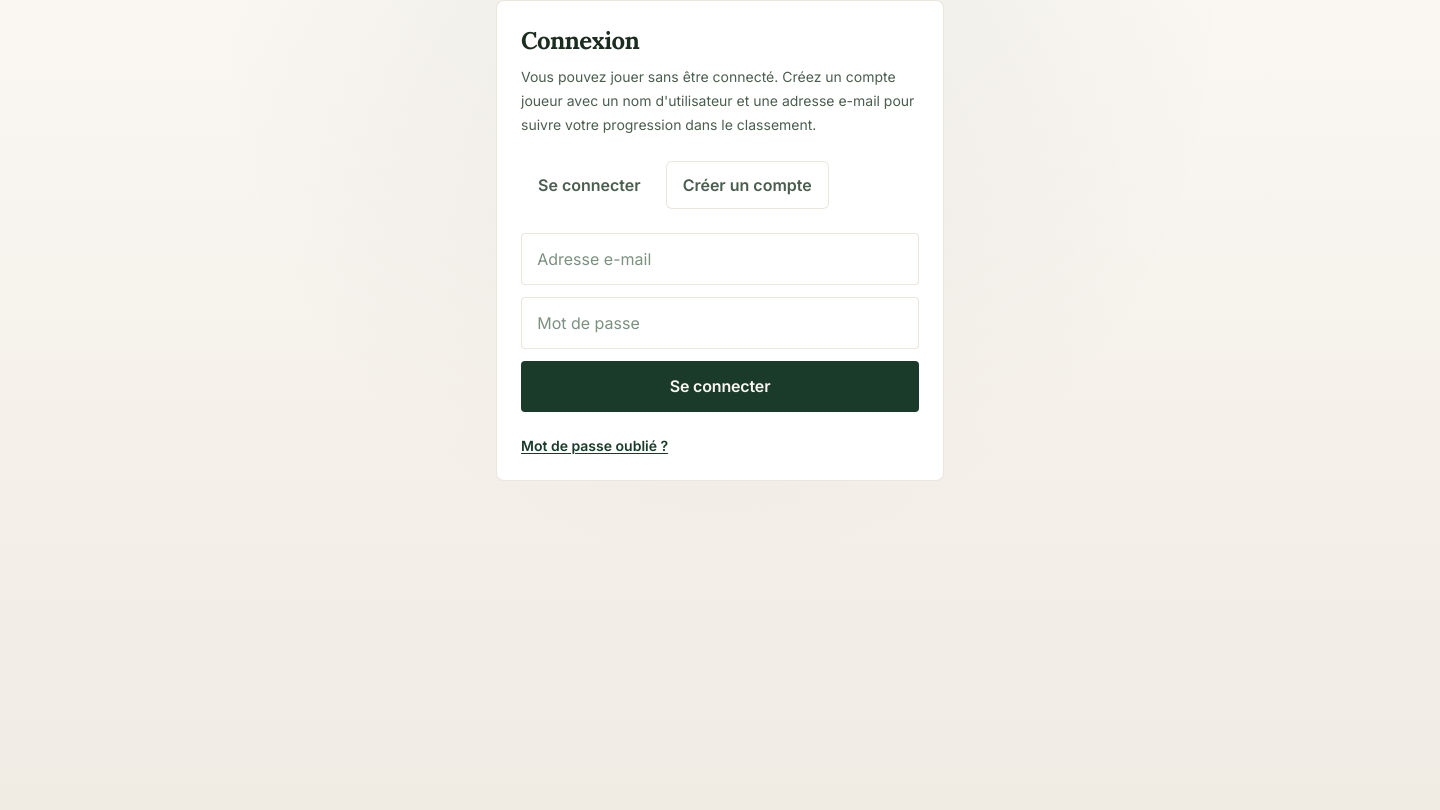
Scenario: AuthPage › submits register form and shows activation link message
Step 1. Click the button "Créer un compte" → (747, 185), box [666,161,829,209]
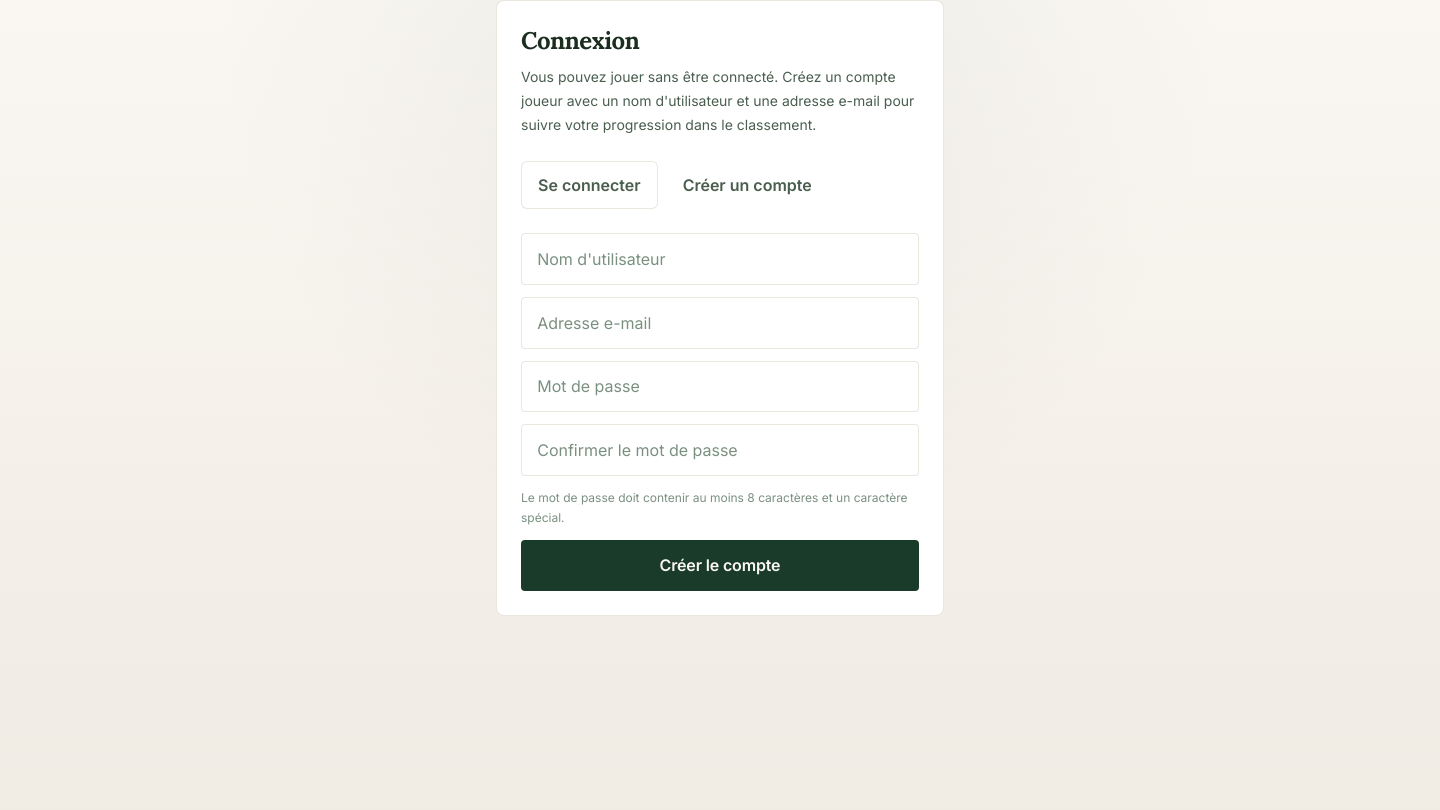
Step 2. Type "newuser" into the field with placeholder "Nom d'utilisateur" → (720, 259), box [521,233,919,285]
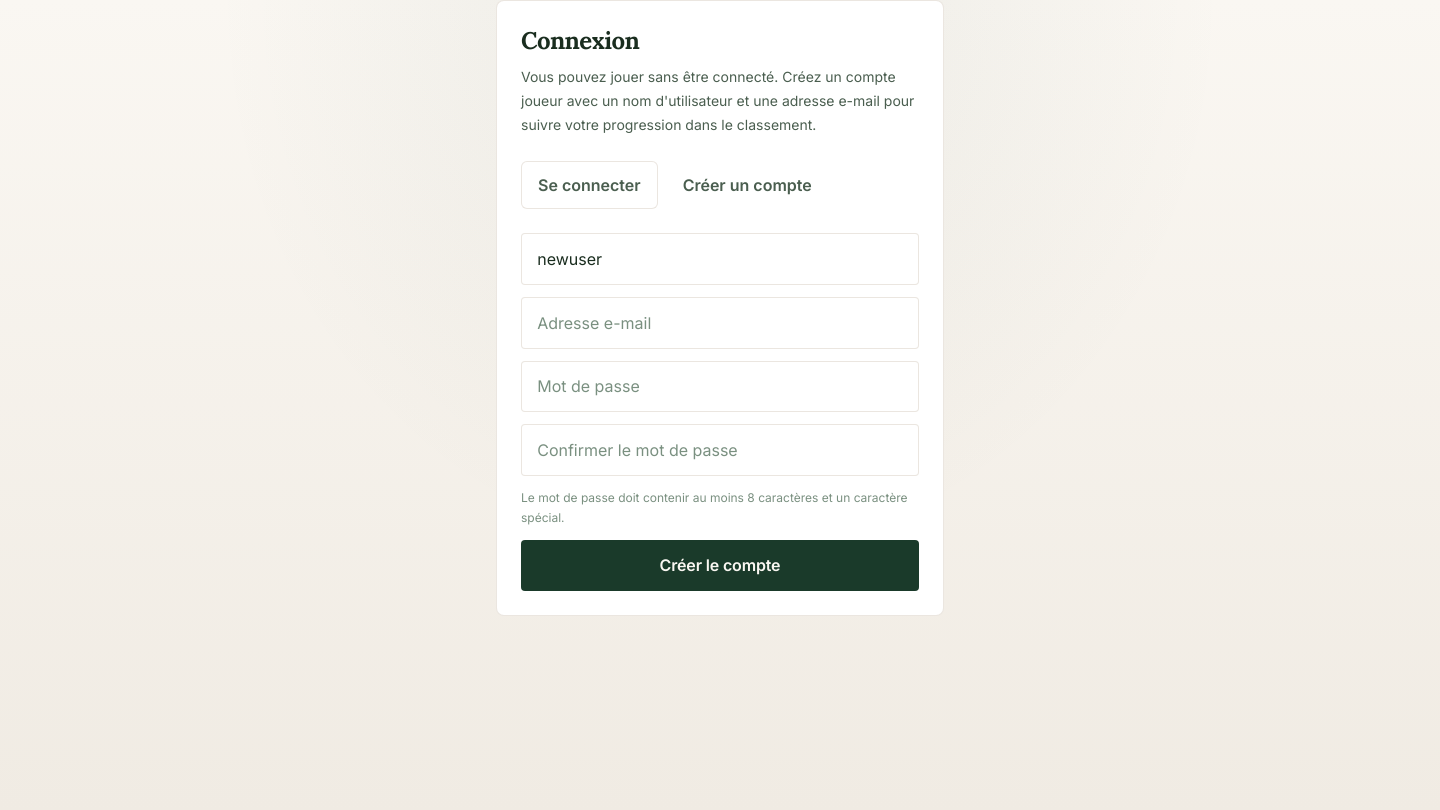
Step 3. Type "newuser@example.com" into the field with placeholder "Adresse e-mail" → (720, 323), box [521,297,919,349]
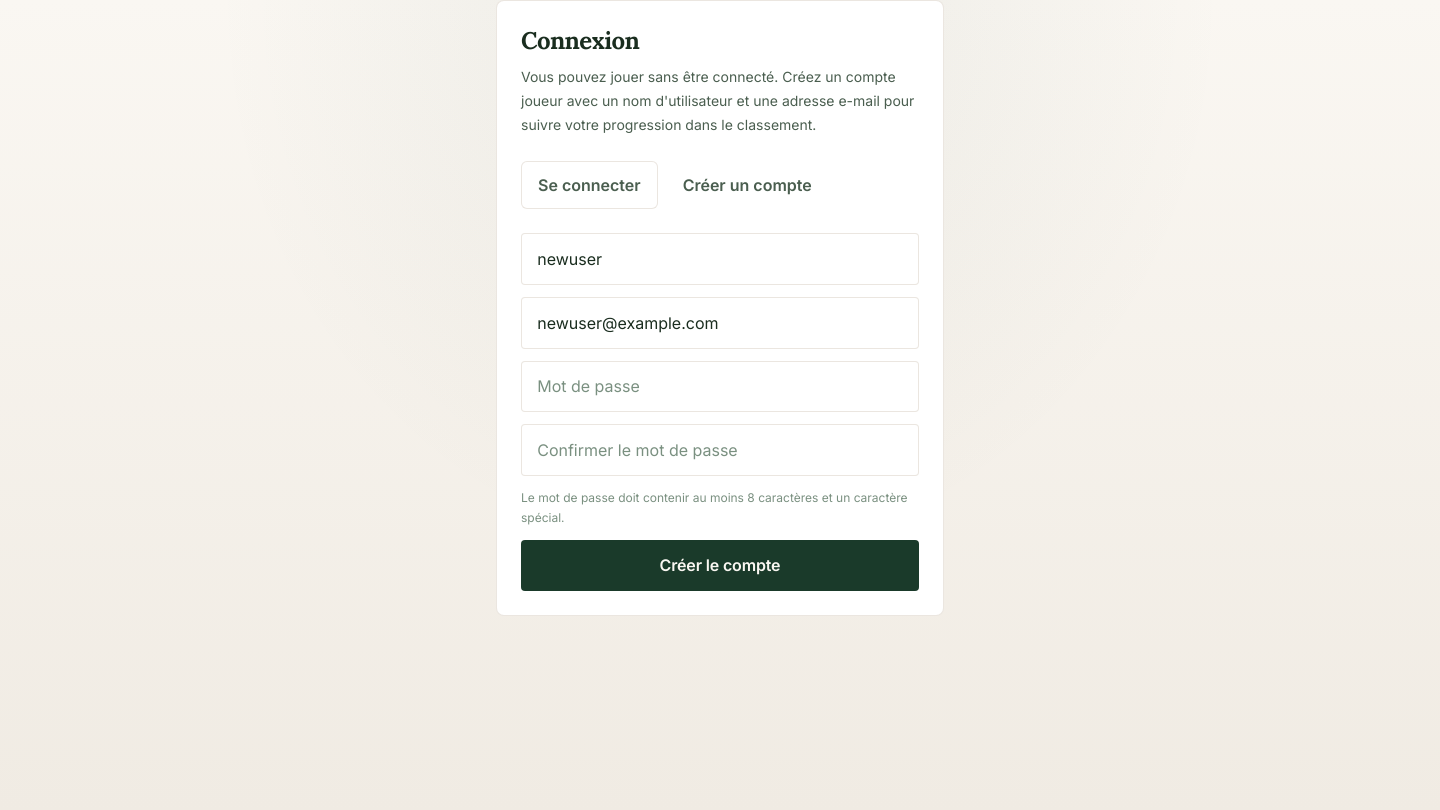
Step 4. Type "newpass123!" into the password field with placeholder "Mot de passe" → (720, 386), box [521,361,919,412]
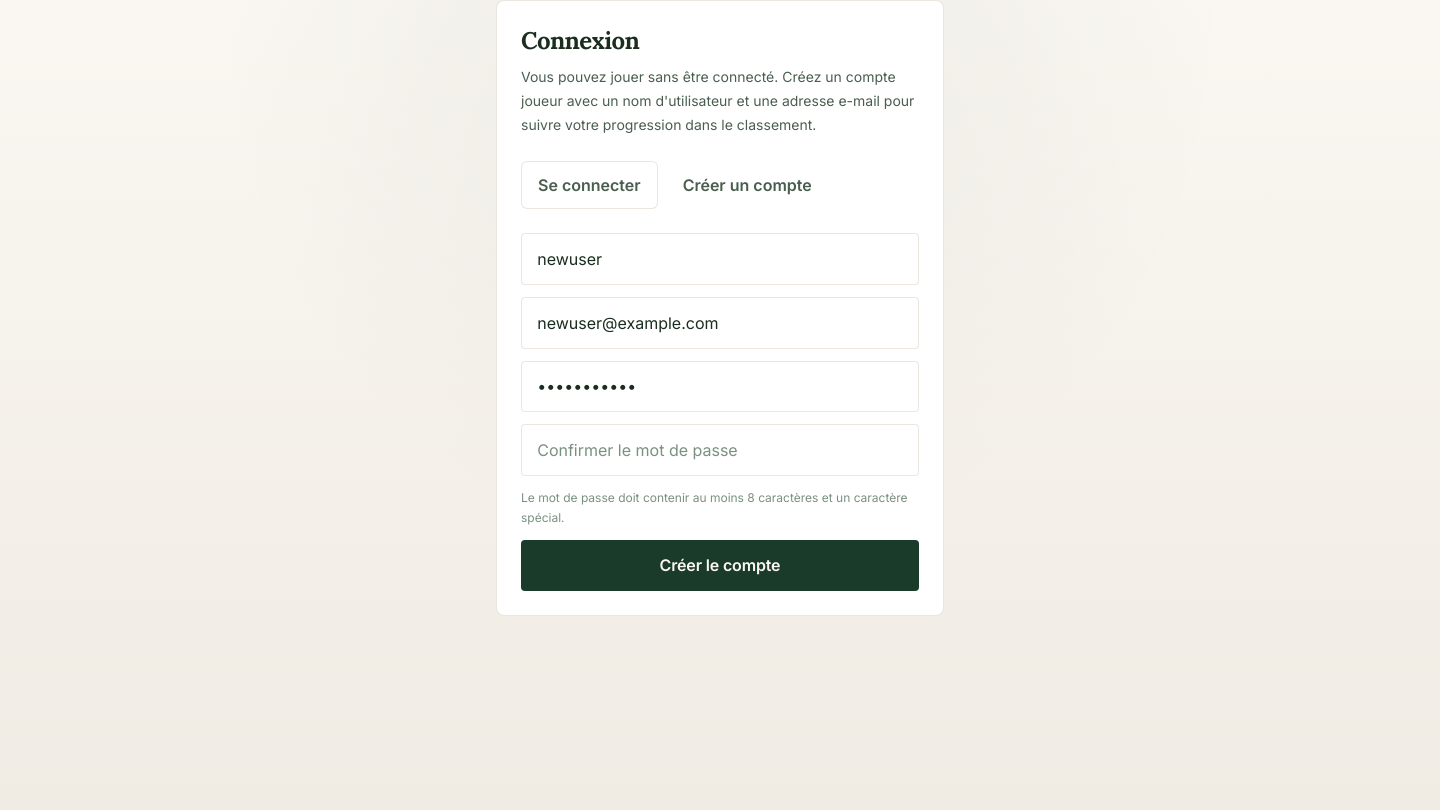
Step 5. Type "newpass123!" into the password field with placeholder "Confirmer le mot de passe" → (720, 450), box [521,424,919,476]
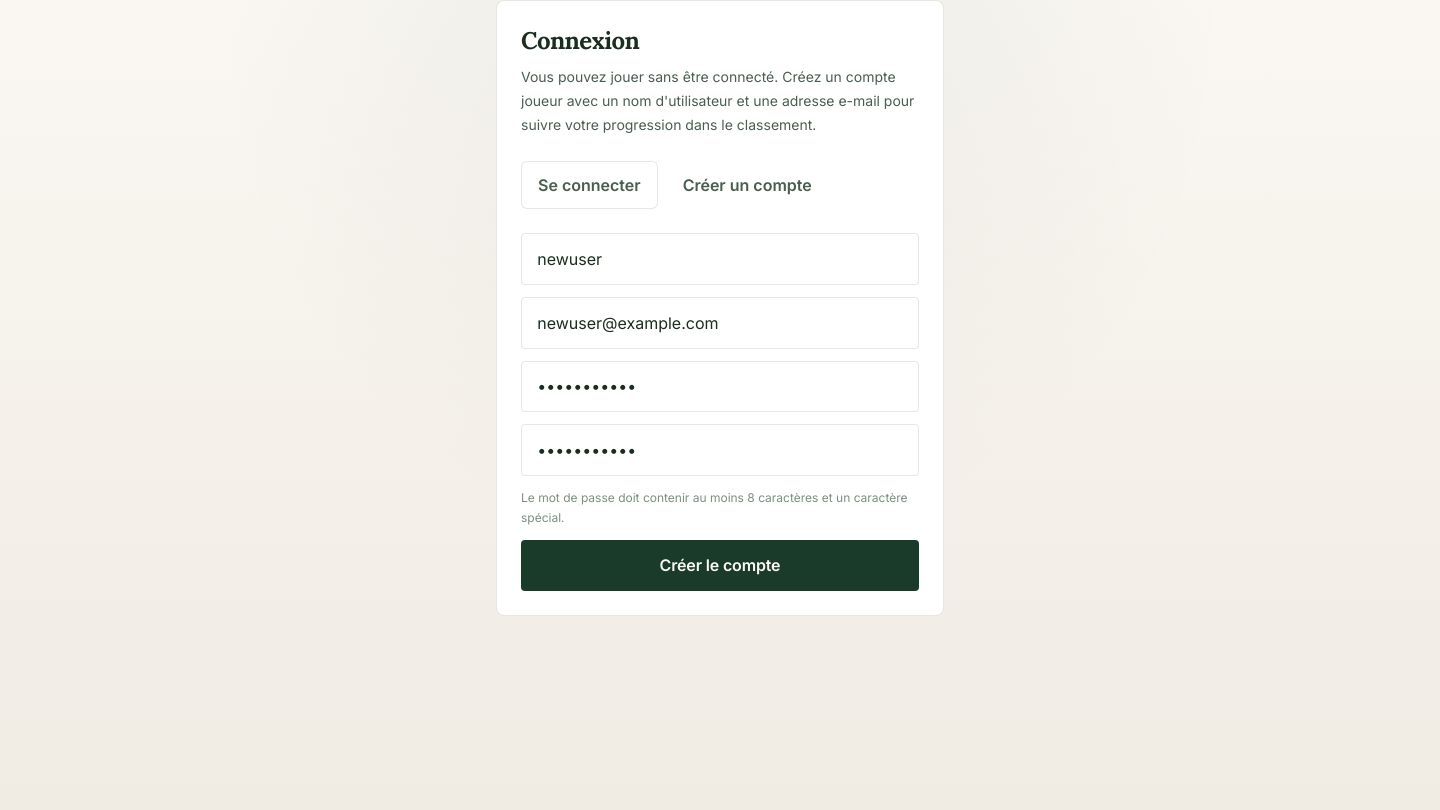
Step 6. Click the button "Créer le compte" → (720, 565), box [521,540,919,591]
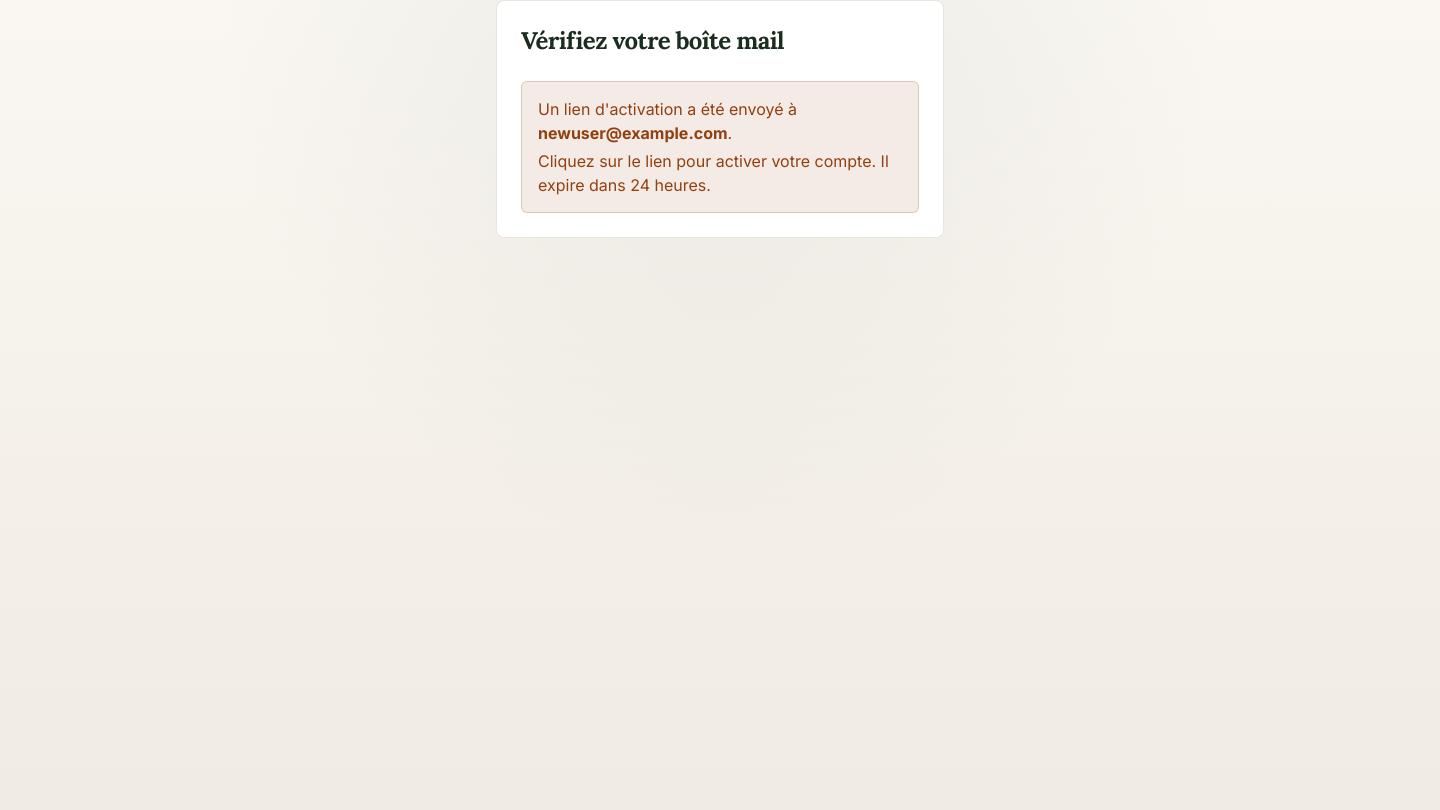
Result: the text "Un lien d'activation a été envoyé à newuser@example.com." is shown at [538,99,797,143]
